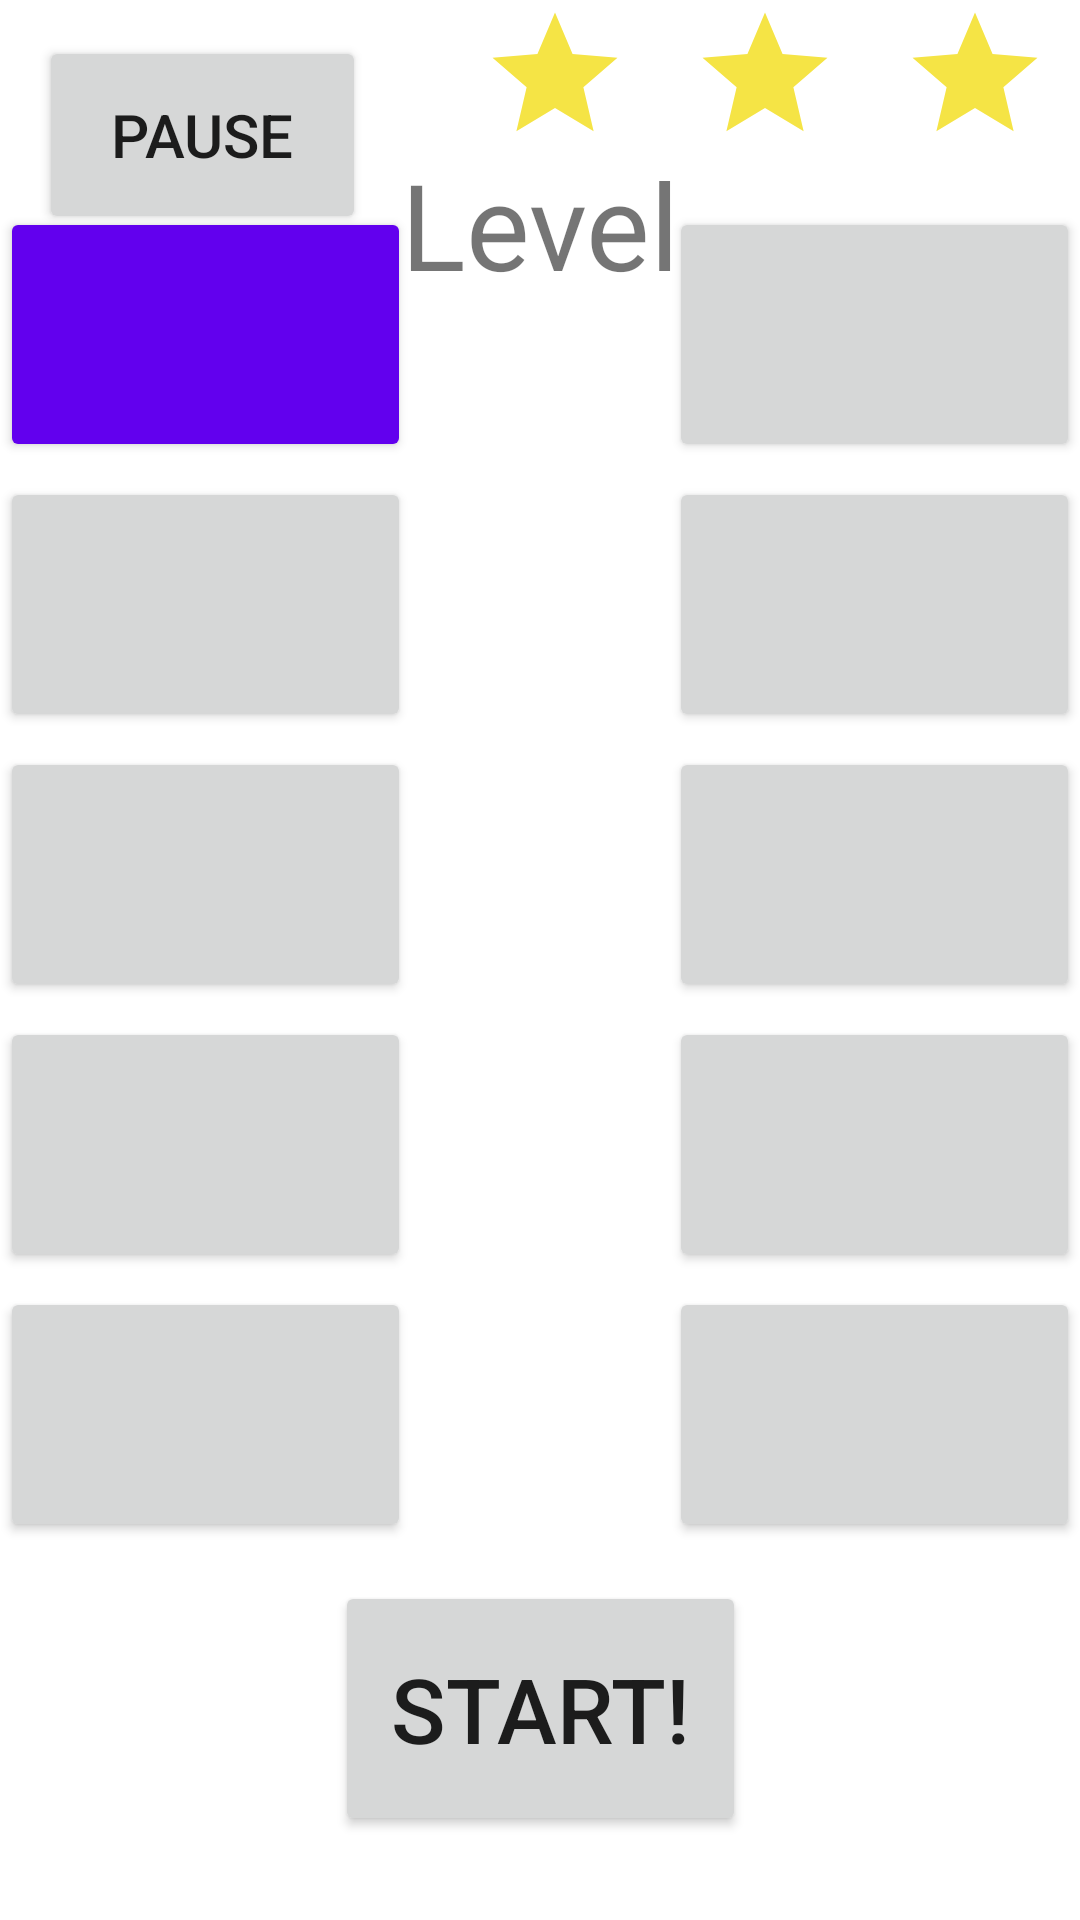

Screen size 1080×1920. Icon name, then its box in pixels as (x1, y1, x2, y2):
star: (493, 13, 617, 131), (703, 13, 827, 131), (913, 13, 1037, 131)
